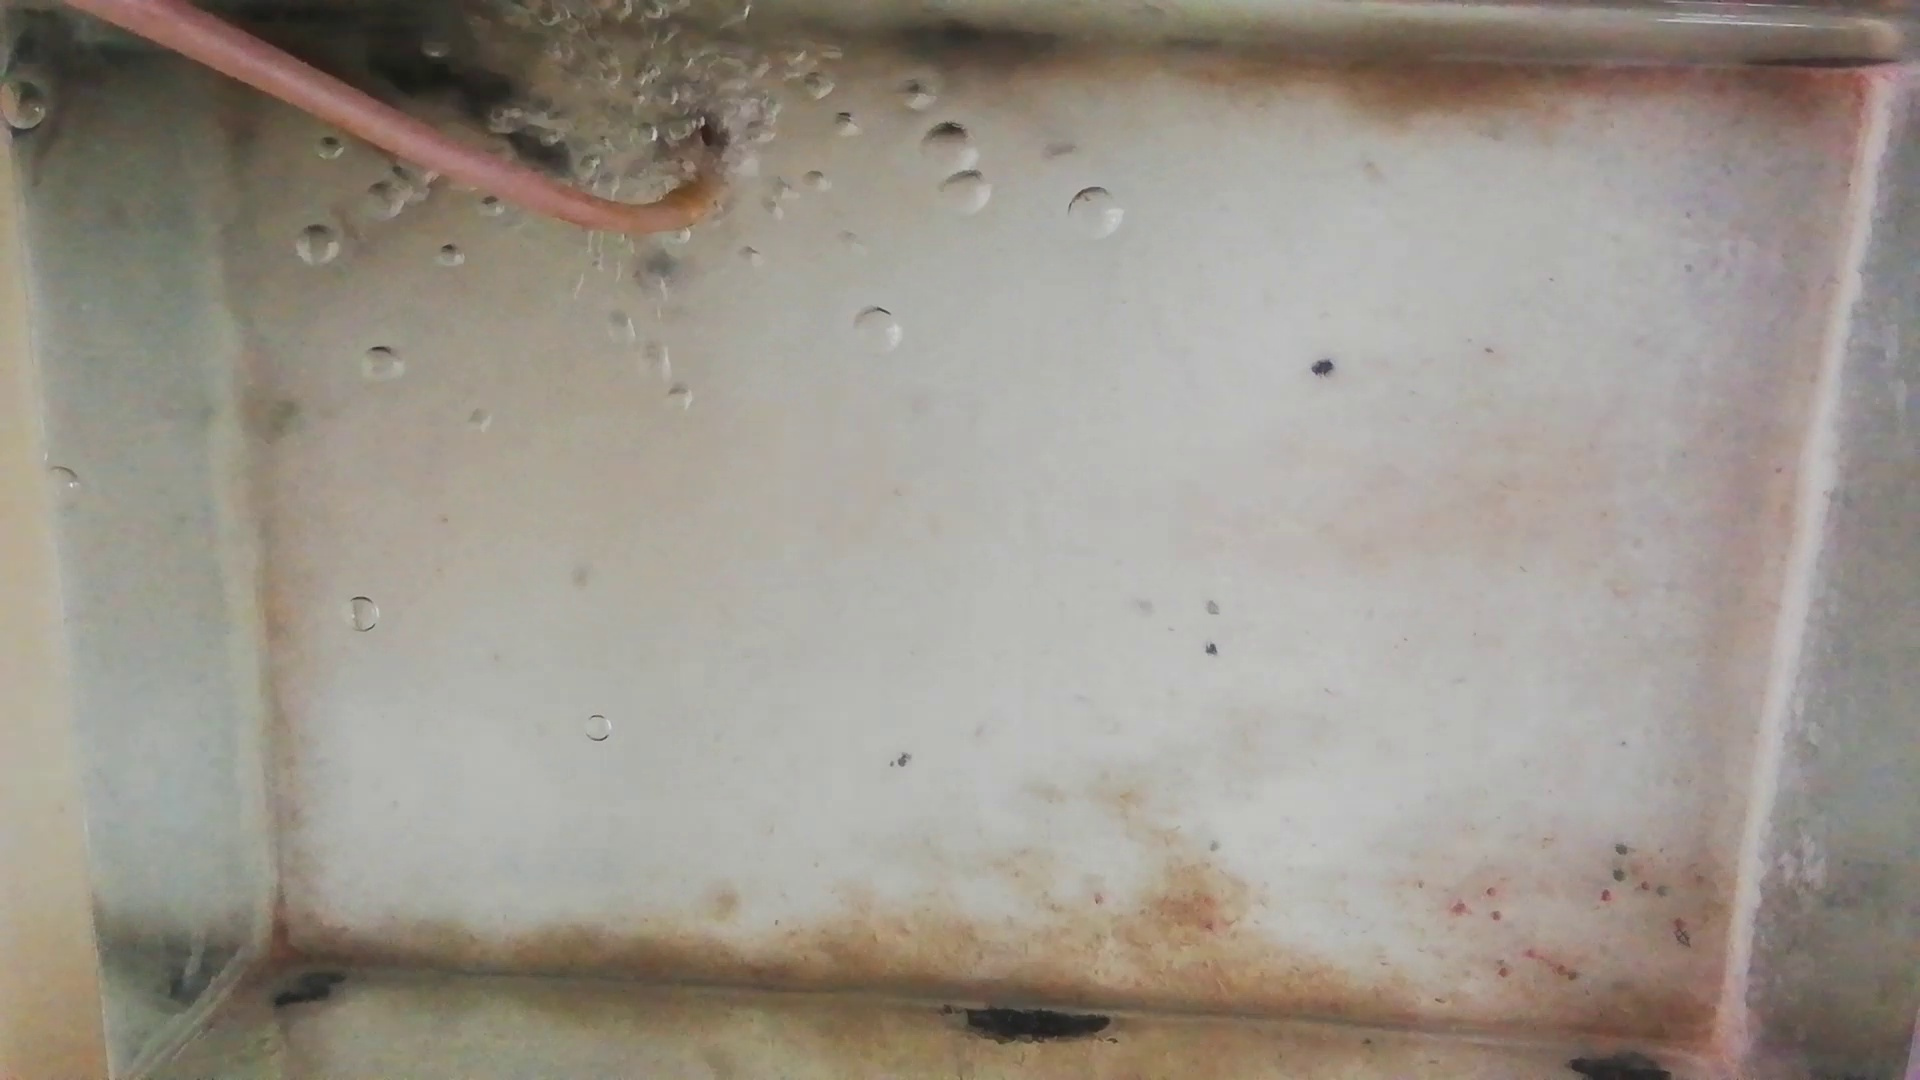fish: (368, 29, 575, 170)
